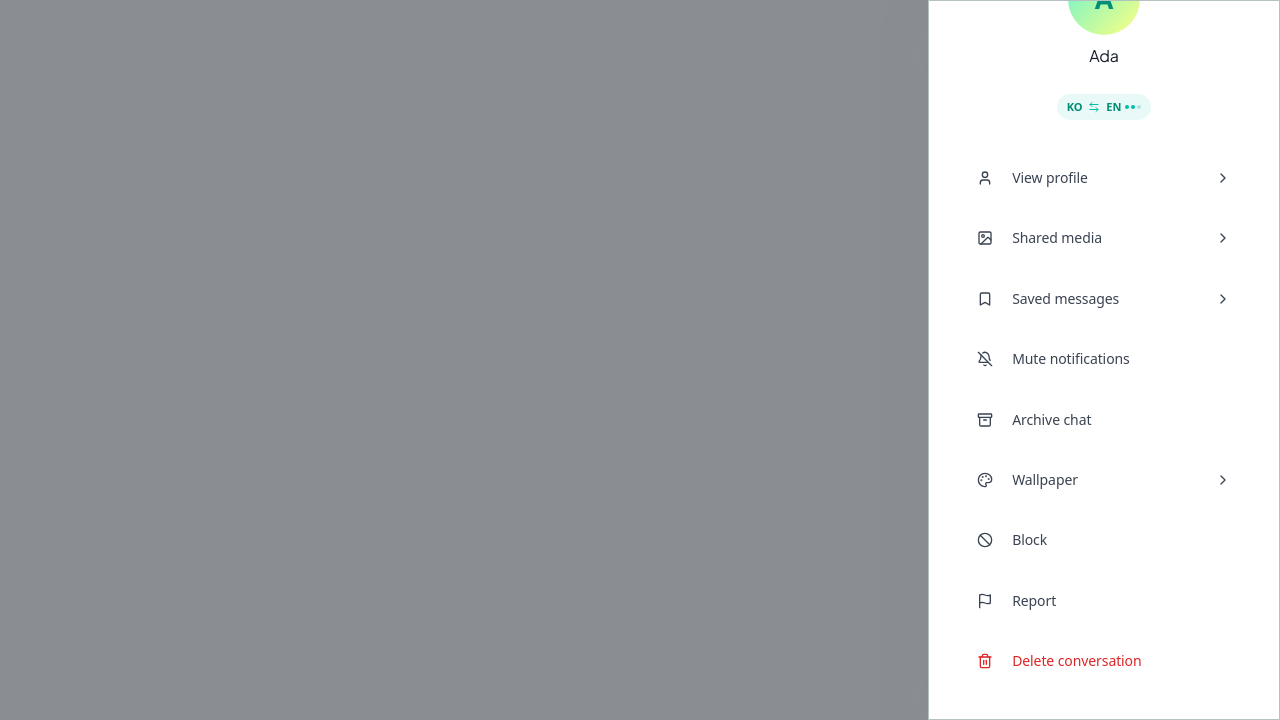
Test: report › sends the reason the picker collected in the body the backend accepts
(page scrolled)
Click the button with test id "chat-info-report" at (1034,600), box [958, 572, 1250, 630]
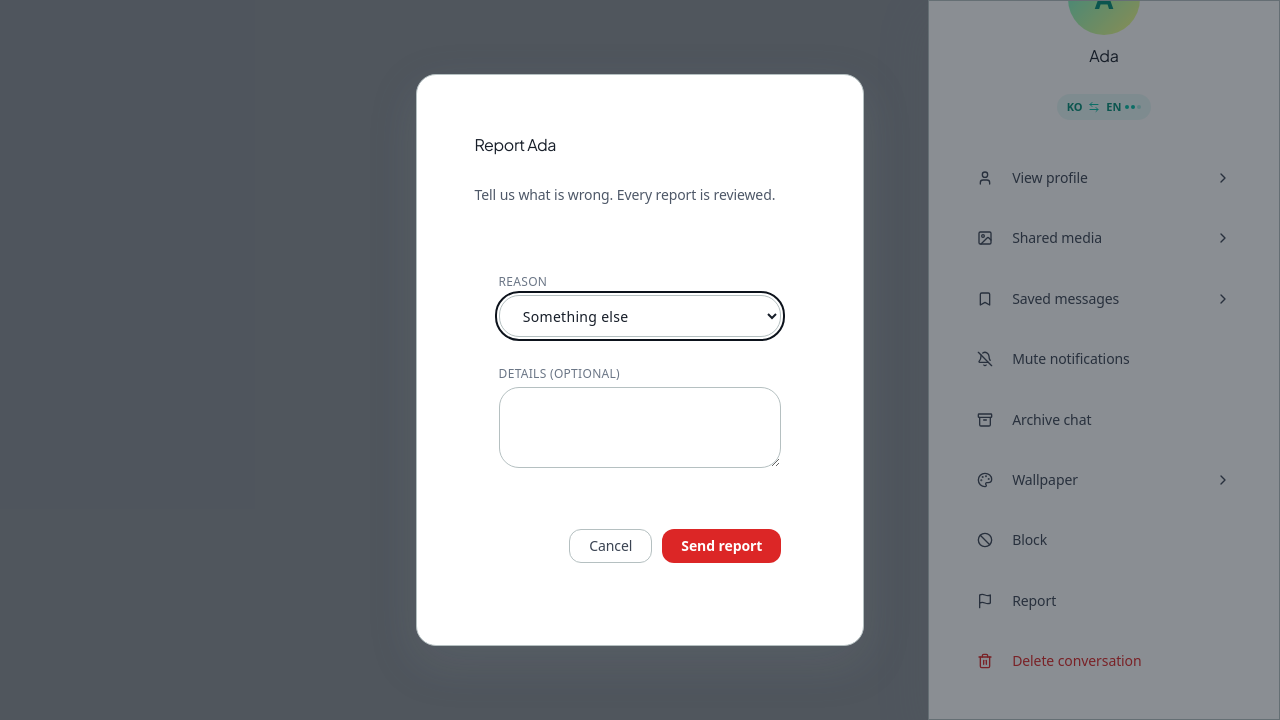
Select "Harassment or bullying" in the dropdown with test id "chat-report-reason" at (640,316), box [499, 295, 781, 337]
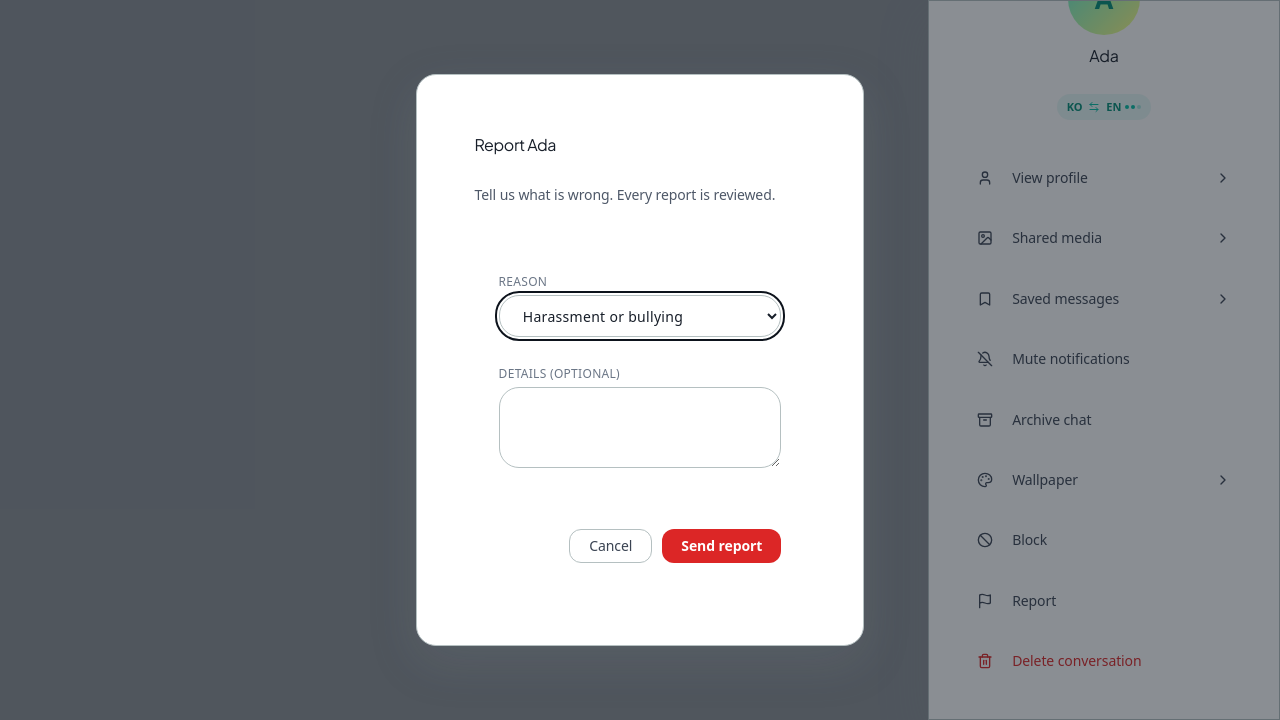
Type "kept messaging after I asked them to stop" into the text box with test id "chat-report-description" at (640,427), box [499, 387, 781, 468]
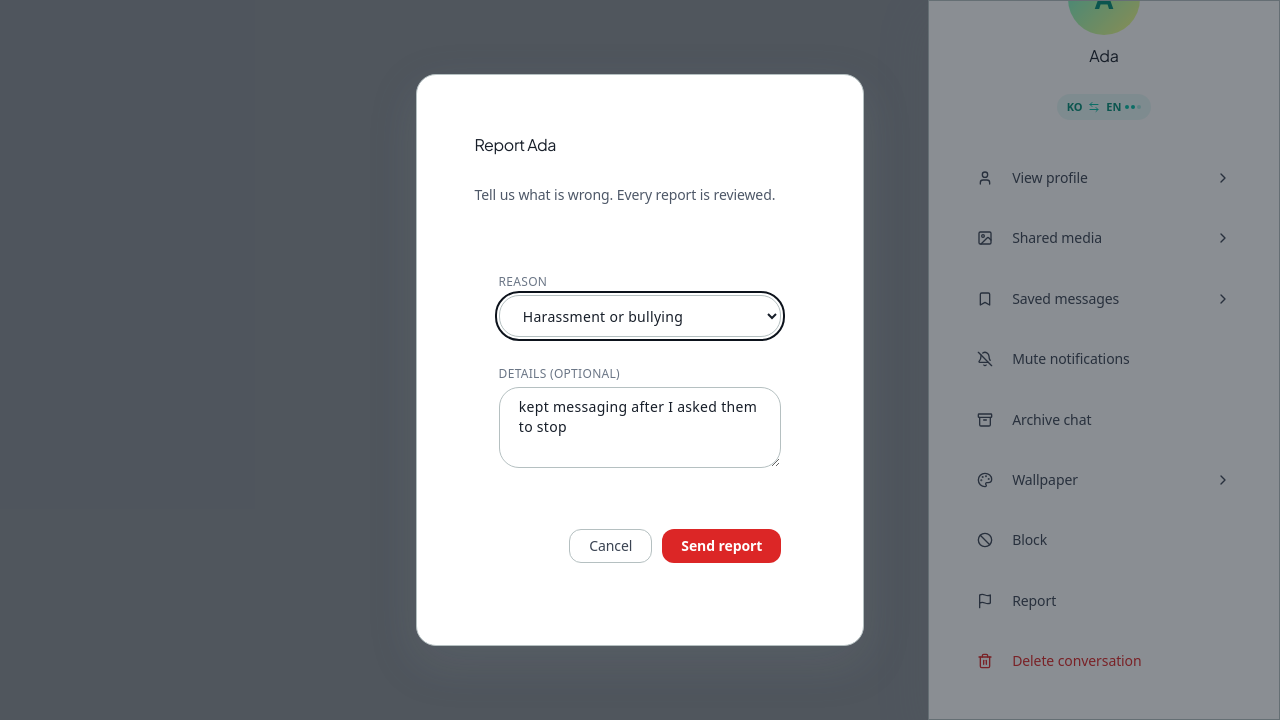
Submit the form with test id "chat-report-form", box [475, 221, 805, 588]
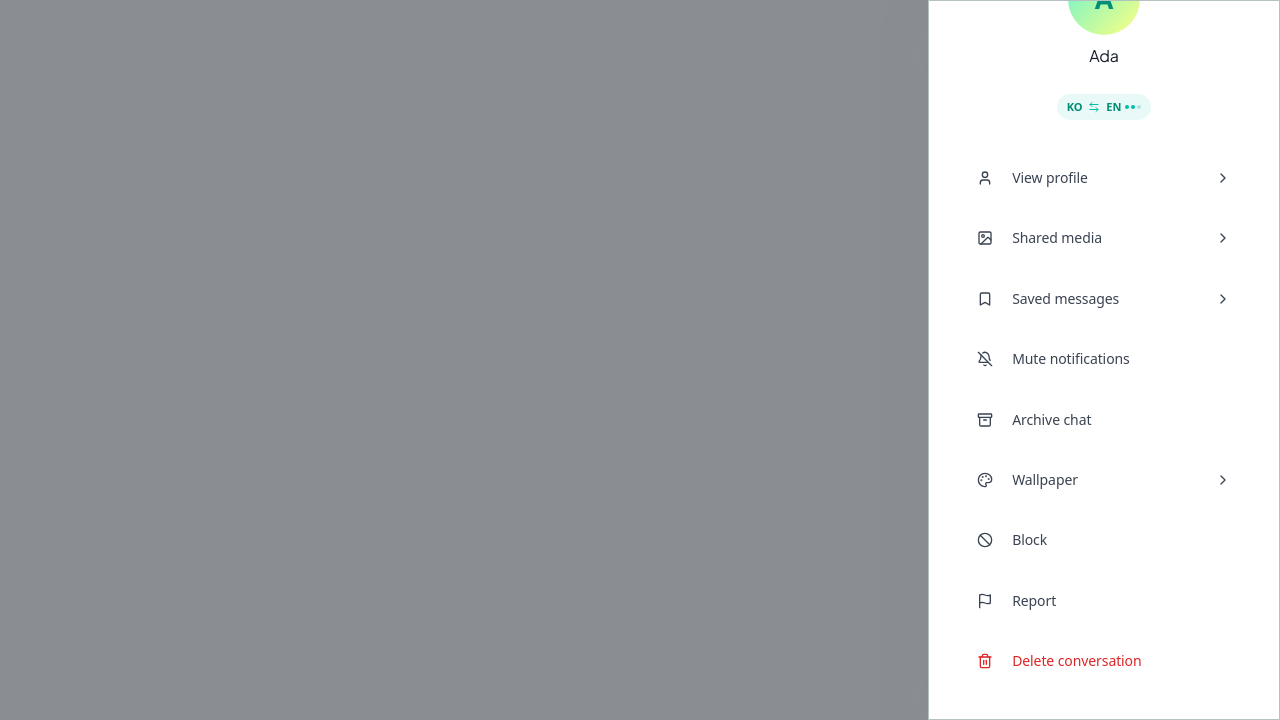
Check: the form with test id "chat-report-form" is gone
